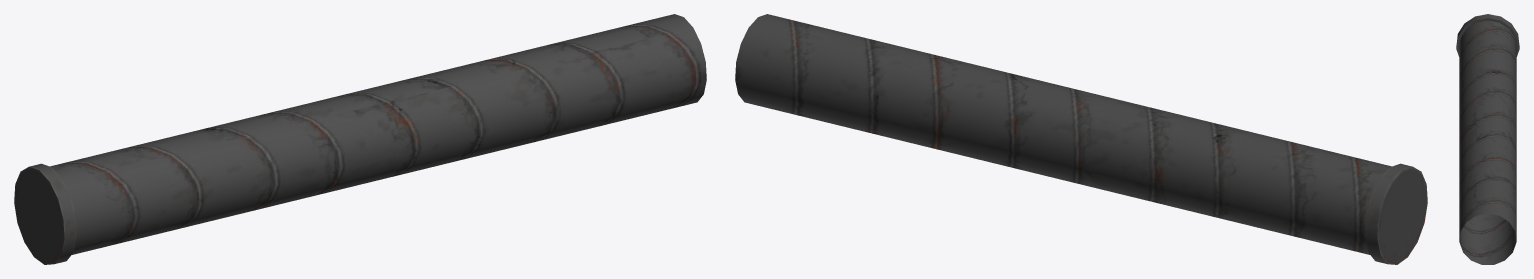
File: SteelPipe_Tile.dae
3 views of the same model, side by side, from view 1: azimuth 30°, elevation 25°; view 2: azimuth 150°, elevation 25°; view 3: azimuth 270°, elevation 25° (orthographic). The views are drawn at different scales.
Visible parts, largest first — view 1: polySurface392; view 2: polySurface392; view 3: polySurface392.
Boxes of the visible parts, x1,y1,x2,y2 form: polySurface392: (14, 14, 706, 264); polySurface392: (735, 14, 1427, 264); polySurface392: (1456, 14, 1519, 264).
Bounding box in the file's own units: 5 × 0.674 × 0.6777.
1 material, 1 textured.
